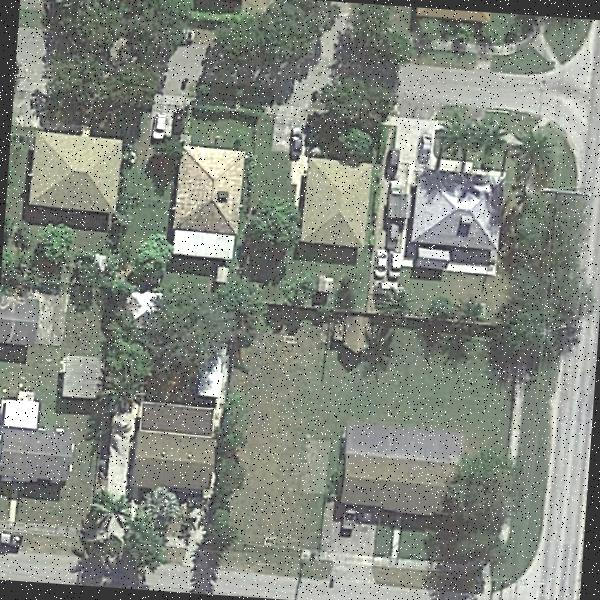Buildings: (406, 172, 502, 278), (117, 400, 217, 500), (332, 430, 461, 506), (297, 155, 371, 256), (32, 135, 120, 206), (182, 150, 240, 252), (0, 411, 70, 480), (0, 287, 47, 347)
